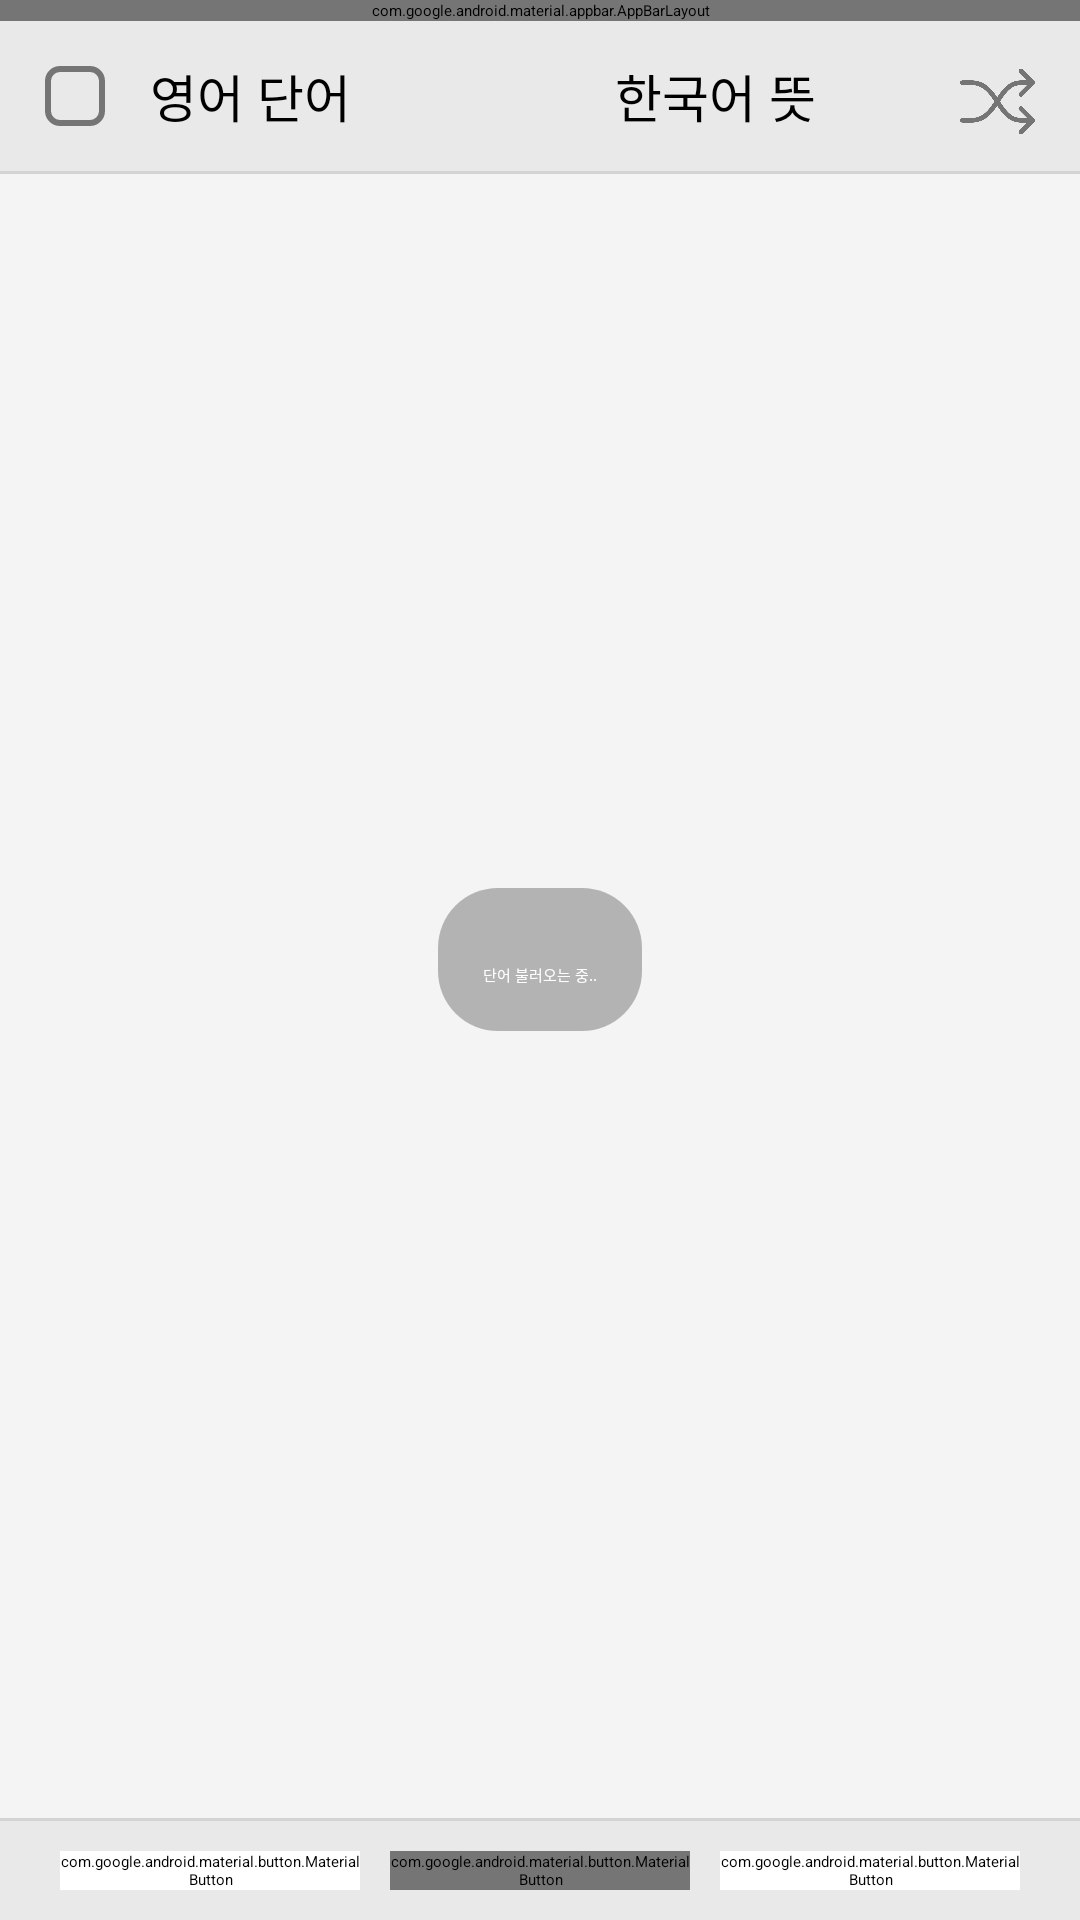

Icon click points for this 1080 × 1920 phone screenshot, format point (x, y):
checkbox unchecked: point (75, 96)
shuffle: point (997, 101)
